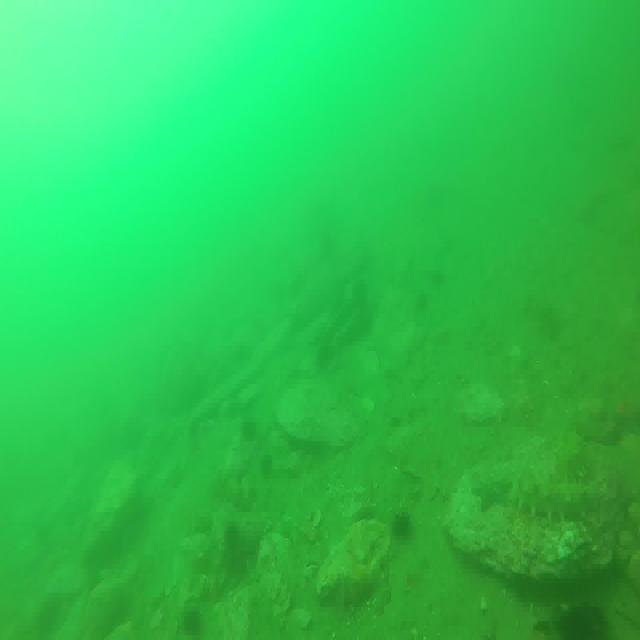echinus: (560, 595, 611, 640), (393, 508, 414, 536)
holothurian: (522, 474, 610, 525)
